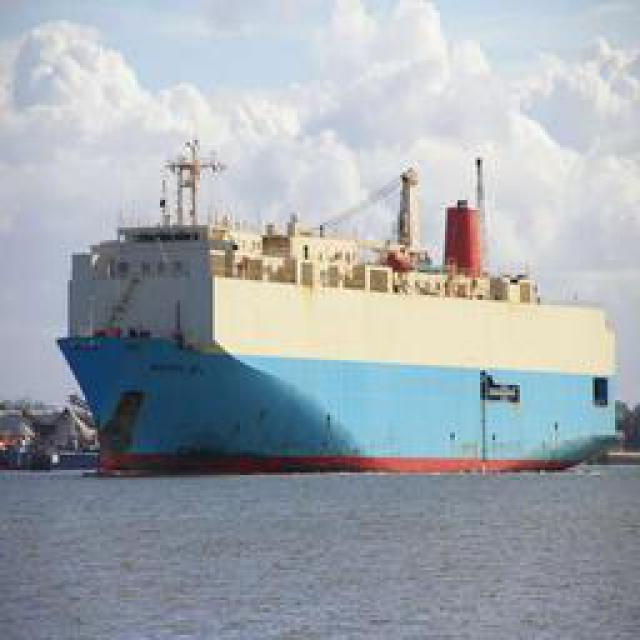Ship: (56, 144, 619, 477)
